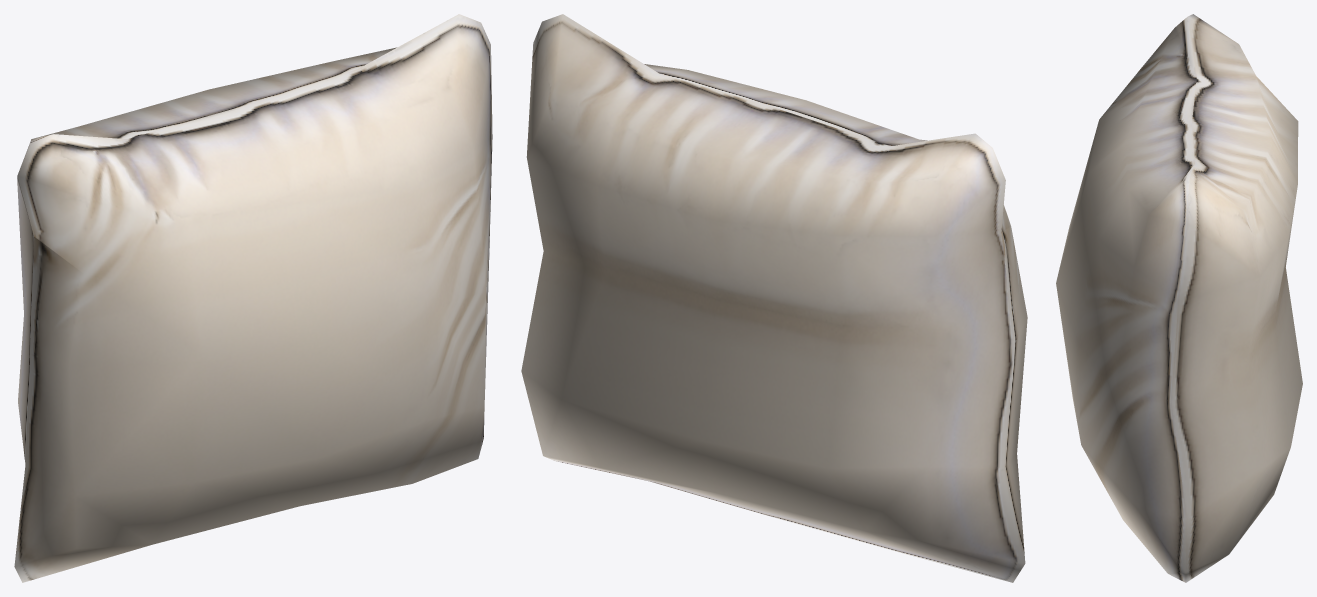
The model's file is PillowD.FBX.
3 views of the same model, side by side, from view 1: azimuth 30°, elevation 25°; view 2: azimuth 150°, elevation 25°; view 3: azimuth 270°, elevation 25° (orthographic). The views are drawn at different scales.
Parts seen in each view (by area): view 1: PillowD; view 2: PillowD; view 3: PillowD.
Boxes of the visible parts, x1,y1,x2,y2 form: PillowD: (14, 14, 492, 582); PillowD: (521, 14, 1027, 582); PillowD: (1056, 14, 1302, 582).
Size of the model in its own units: 49.8 by 24.59 by 45.28.
